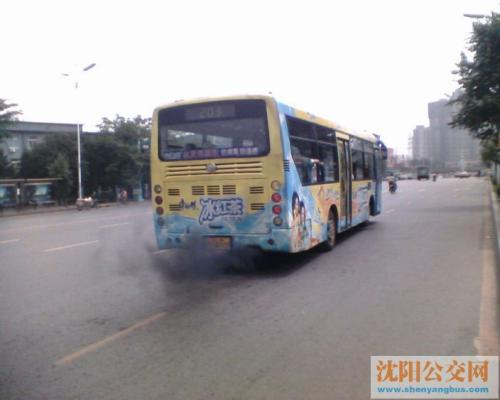smoke: (144, 236, 274, 300)
